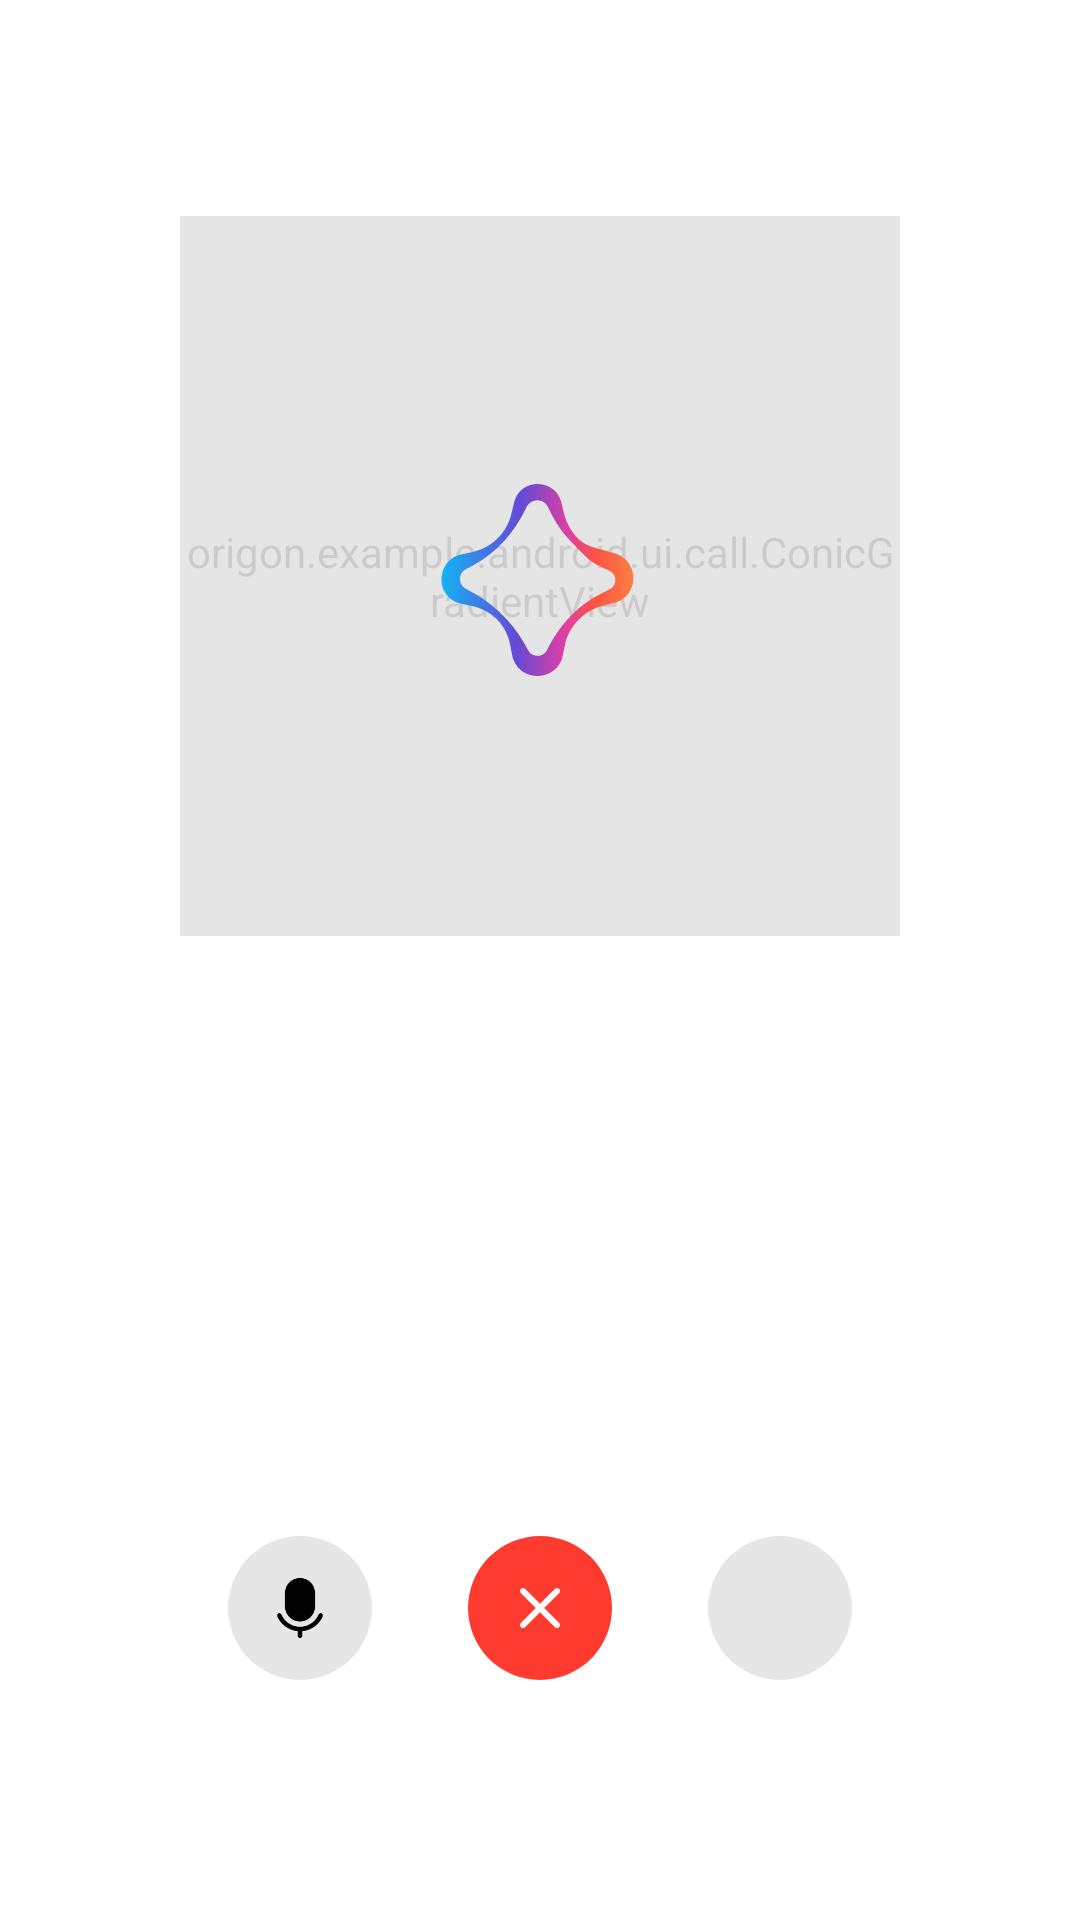

Icon bounding boxes for this 1080x1920 phone screenshot, format (x1, y1, x2, y2):
End call: (520, 1588, 560, 1628)
Mute: (277, 1578, 323, 1638)
